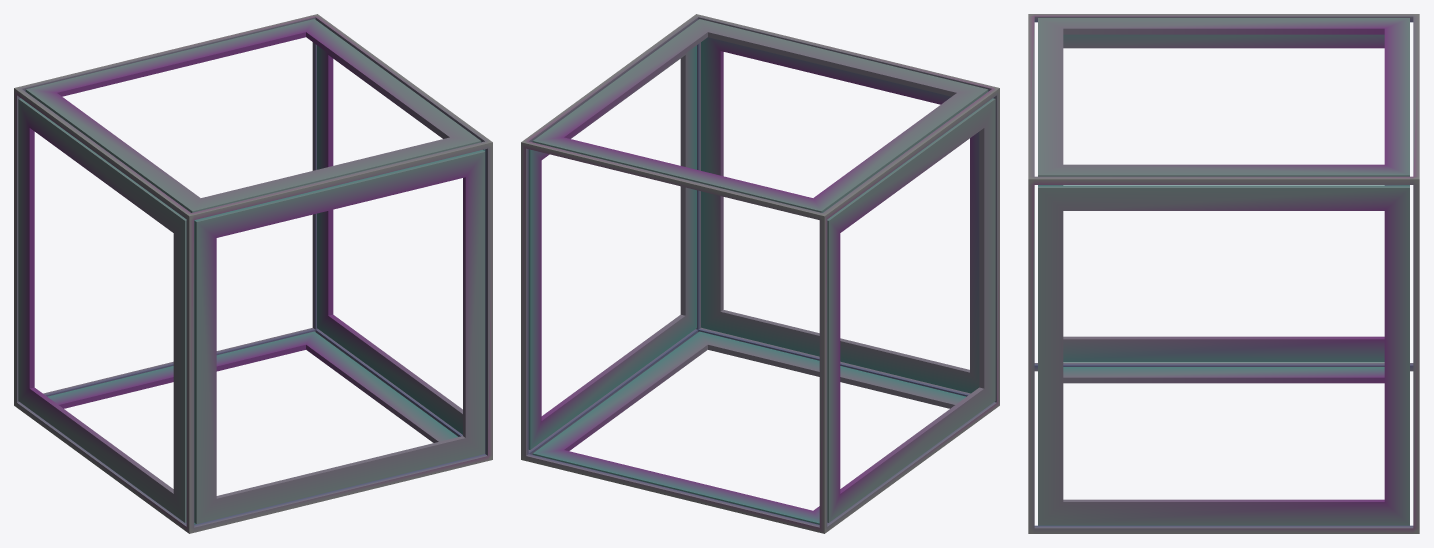
3 renders of one model, left to right at view 1: azimuth 30°, elevation 25°; view 2: azimuth 150°, elevation 25°; view 3: azimuth 270°, elevation 25°, orthographic. The views are drawn at different scales.
Parts seen in each view (by area): view 1: upright; view 2: upright; view 3: upright.
Boxes of the visible parts, box(x1,y1,x2,y2) form: upright: box(14, 14, 492, 533); upright: box(521, 14, 999, 533); upright: box(1028, 14, 1419, 533).
Bounding box in the file's own units: 0.9978 × 0.9978 × 0.9978.
